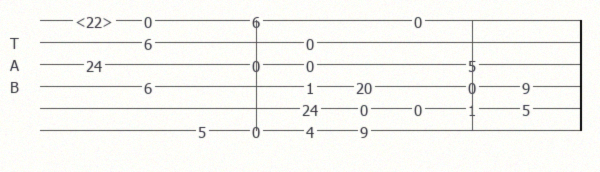0: (144, 13, 156, 28), (252, 57, 264, 72), (252, 123, 264, 138), (306, 35, 318, 50), (306, 57, 318, 72), (360, 101, 372, 116), (414, 13, 426, 28), (414, 101, 426, 116), (468, 79, 480, 94)
1: (306, 79, 318, 94), (468, 101, 480, 116)
20: (356, 79, 376, 94)
24: (86, 57, 106, 72), (302, 101, 322, 116)
4: (306, 123, 318, 138)
5: (198, 123, 210, 138), (468, 57, 480, 72), (522, 101, 534, 116)
6: (144, 79, 156, 94), (144, 35, 156, 50), (252, 13, 264, 28)
9: (360, 123, 372, 138), (522, 79, 534, 94)
harmonic: (75, 13, 117, 28)
